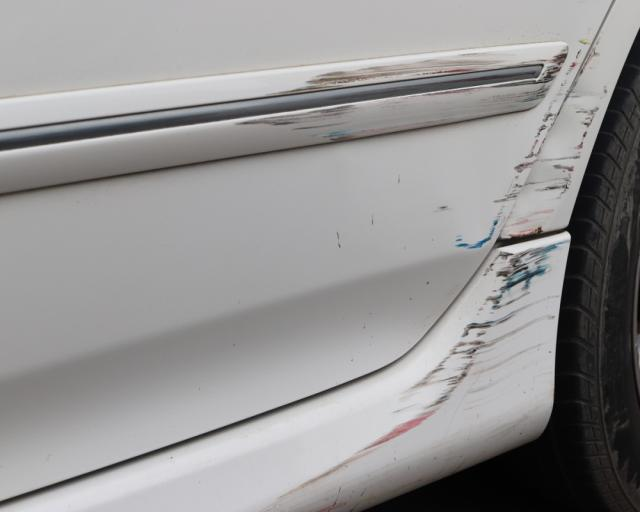scratch: (258, 237, 572, 507), (451, 32, 597, 252), (241, 49, 570, 141), (496, 32, 610, 242)
